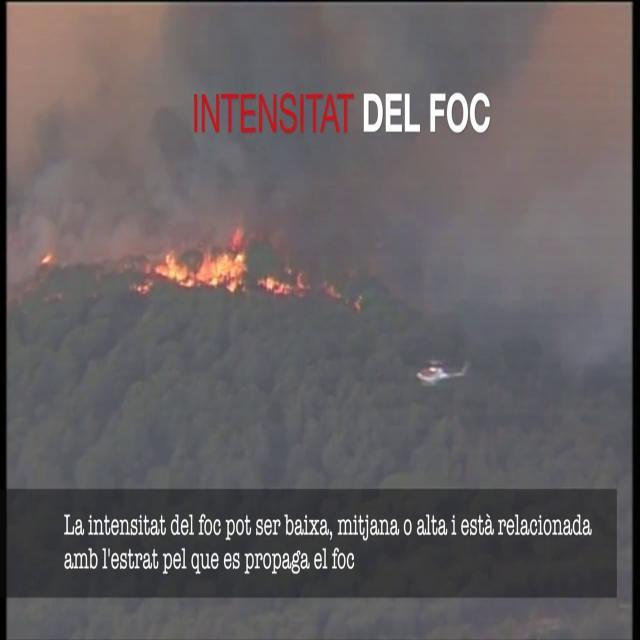Fire: (151, 235, 249, 295)
Smoke: (10, 0, 621, 260), (353, 2, 631, 490)
